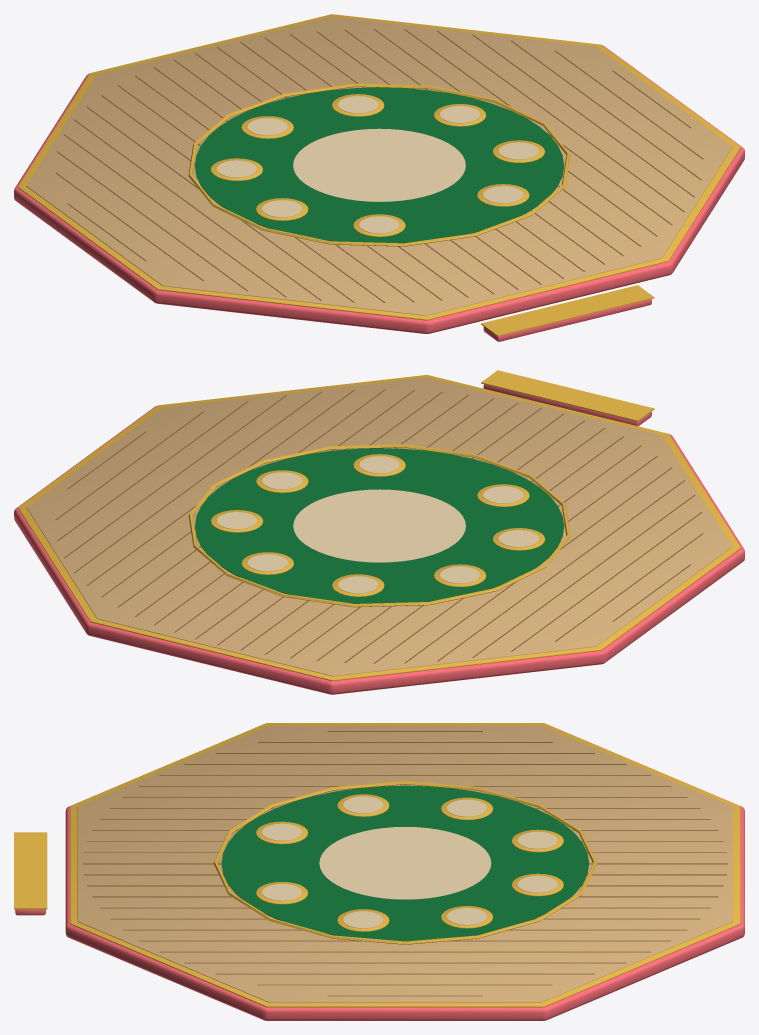
The model's file is BasePlatform.fbx.
The picture shows the model from 3 angles, top to bottom: view 1: azimuth 30°, elevation 25°; view 2: azimuth 150°, elevation 25°; view 3: azimuth 270°, elevation 25°; orthographic projection.
Visible parts, largest first — view 1: BasePlatform; view 2: BasePlatform; view 3: BasePlatform.
Boxes of the visible parts, bbox=[...] form: BasePlatform: bbox=[14, 14, 744, 341]; BasePlatform: bbox=[14, 370, 744, 694]; BasePlatform: bbox=[14, 723, 744, 1020].
Bounding box in the file's own units: 5728 × 157 × 6164.
